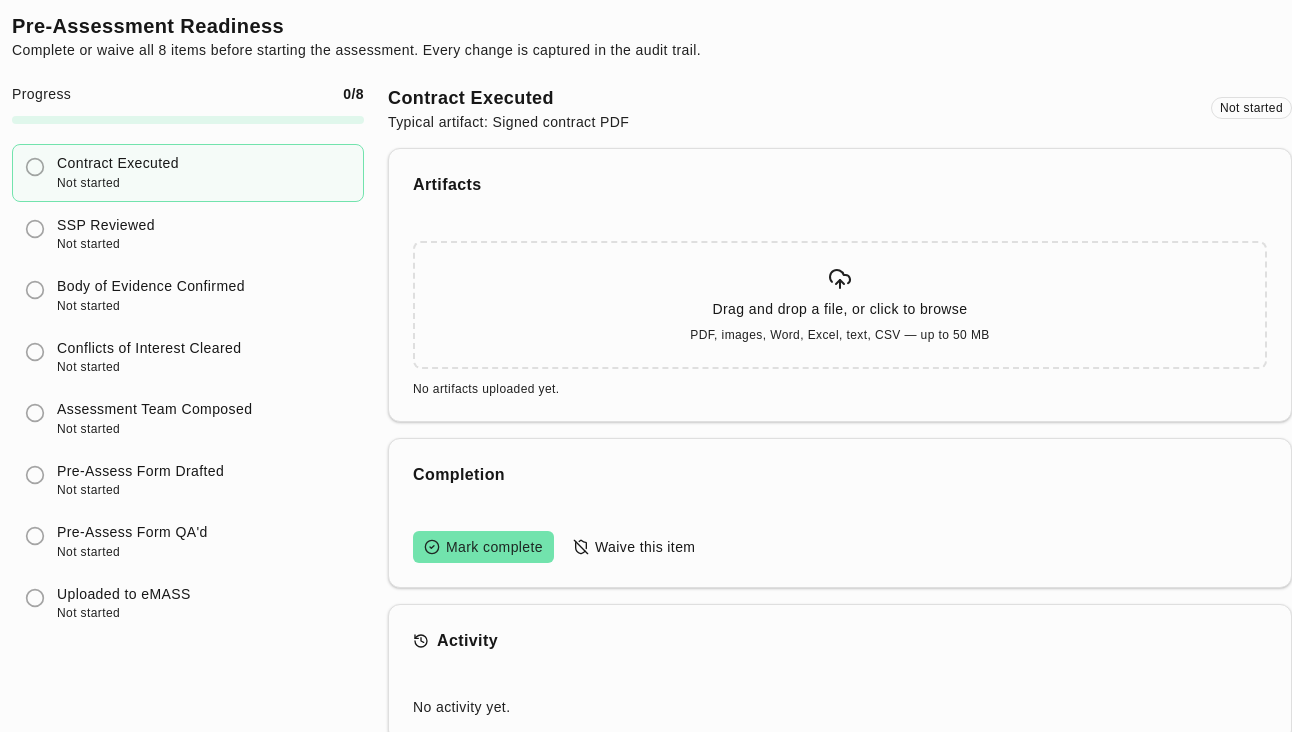
Test: ReadinessWorkspace › switches detail pane when a different item is selected
Click the button with test id "readiness-item-emass_uploaded".
click(188, 603)  # box [12,574,364,632]
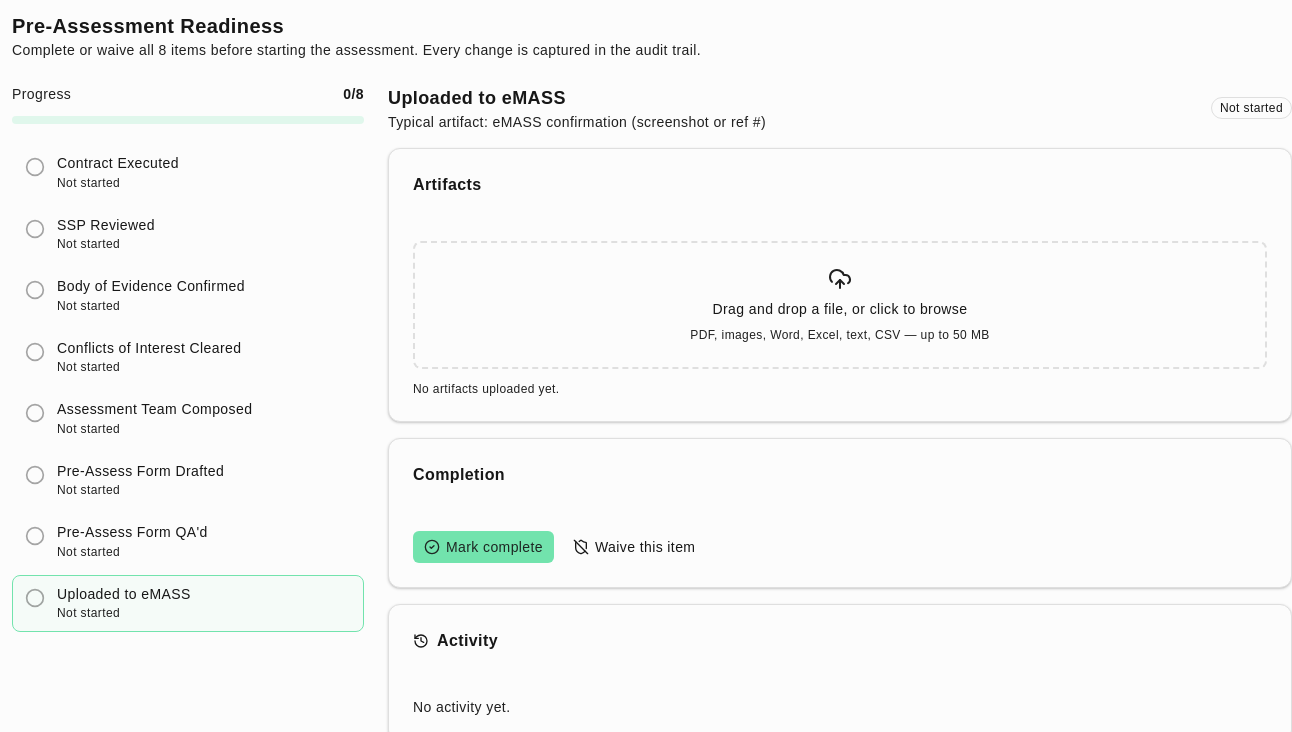
Now the heading "Uploaded to eMASS" is shown, box [388,88,566,108]
